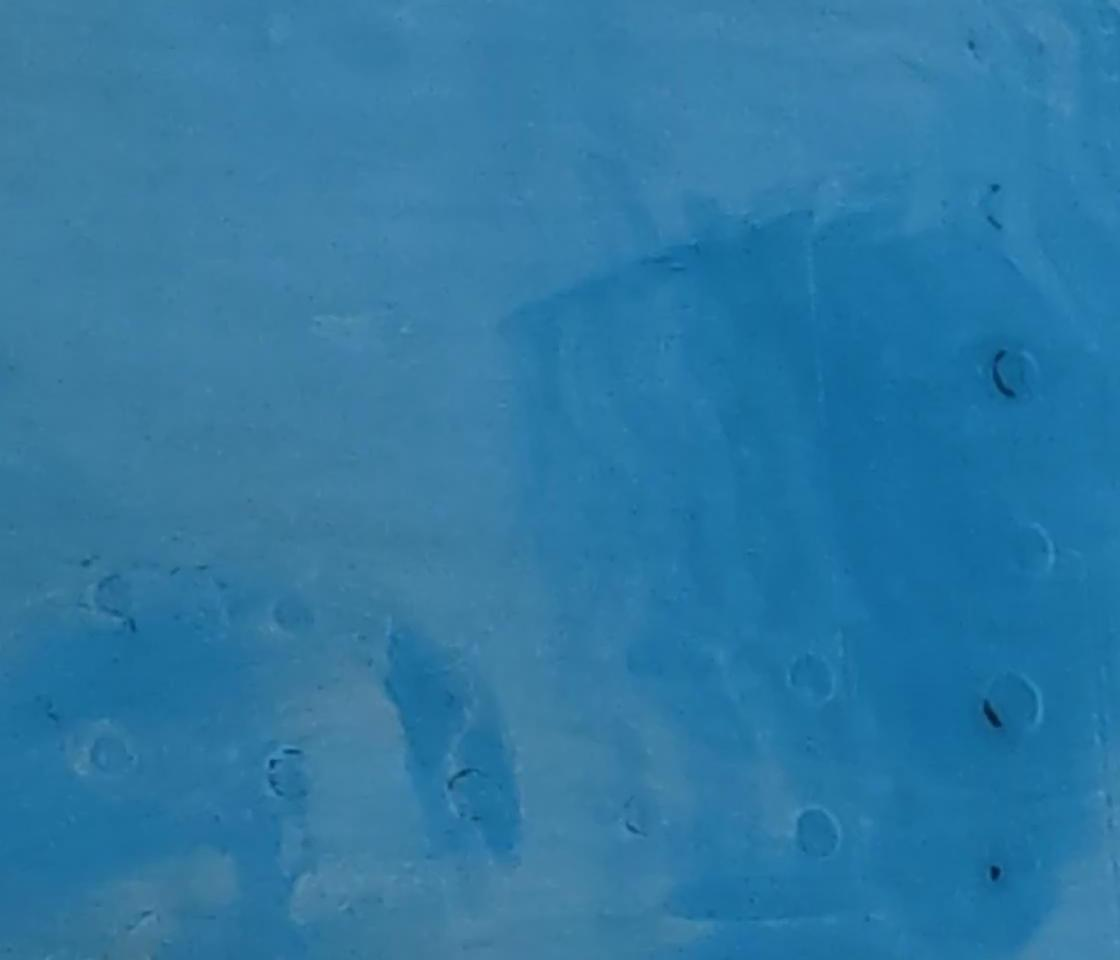scratch: (983, 347, 1022, 405), (974, 694, 1011, 734)
